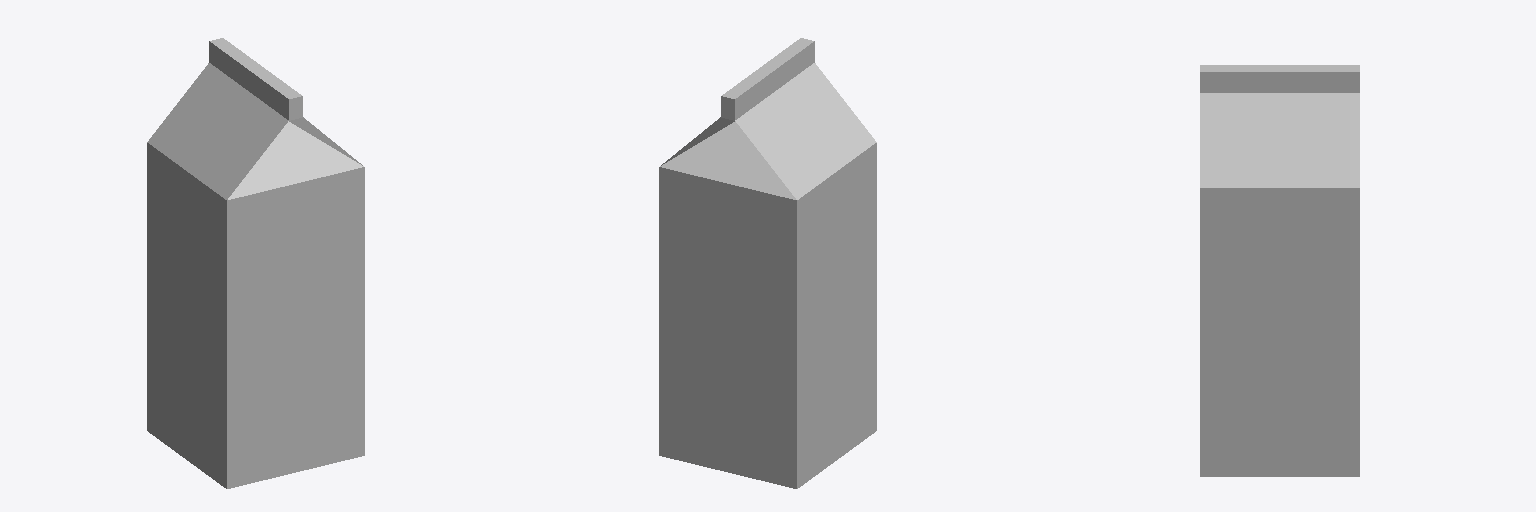
The model's file is milk.obj.
The picture shows the model from 3 angles: view 1: azimuth 30°, elevation 25°; view 2: azimuth 150°, elevation 25°; view 3: azimuth 270°, elevation 25°; orthographic projection.
Visible parts, largest first — view 1: Cube.001; view 2: Cube.001; view 3: Cube.001.
Part boxes in pixels (x1,y1,x2,y2): Cube.001: (147,38,364,488); Cube.001: (659,38,876,488); Cube.001: (1200,65,1359,476).
Size of the model in its own units: 1 by 2.6 by 1.